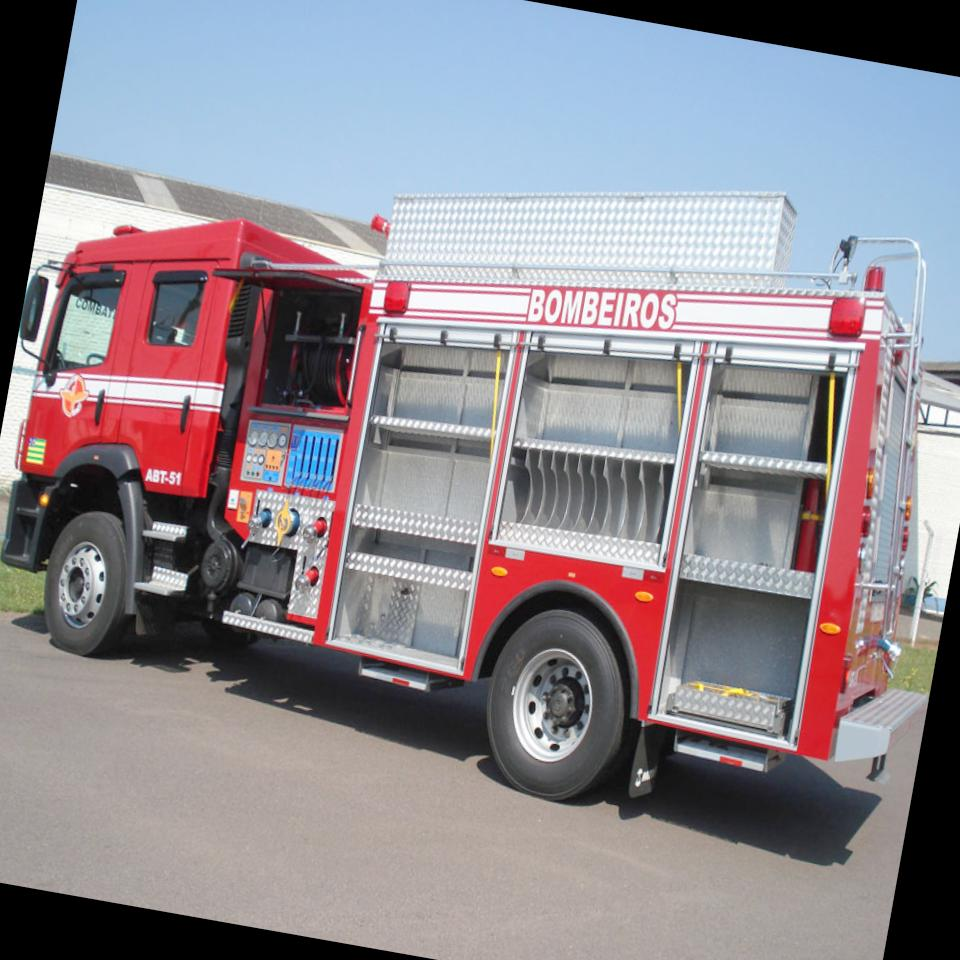viatura: (0, 69, 960, 865)
